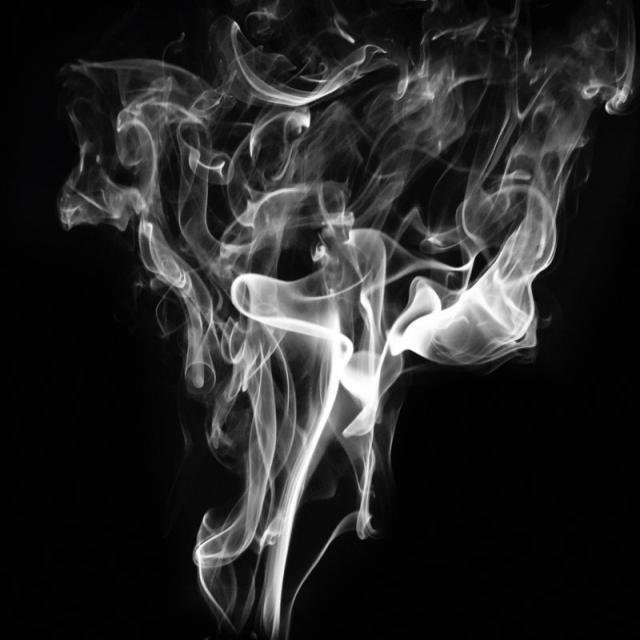Smoke: (59, 0, 636, 640)
